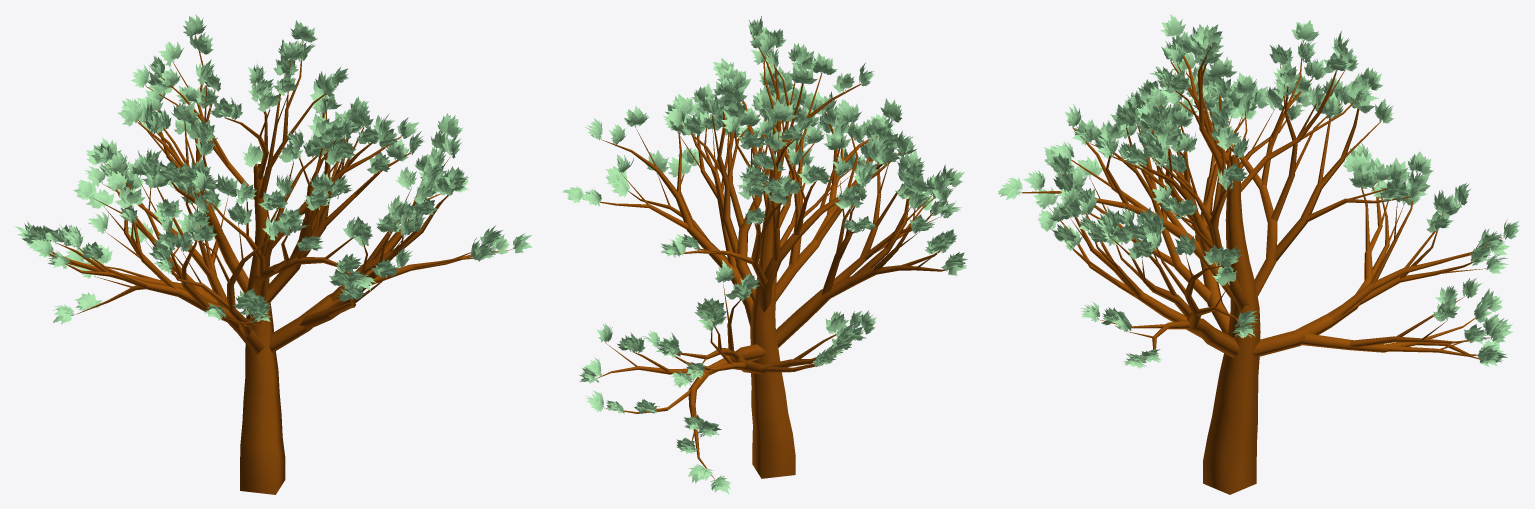
Rendered from FinalTree31.fbx.
The picture shows the model from 3 angles, left to right: view 1: azimuth 30°, elevation 25°; view 2: azimuth 150°, elevation 25°; view 3: azimuth 270°, elevation 25°; orthographic projection. The views are drawn at different scales.
Visible parts, largest first — view 1: Árbol; view 2: Árbol; view 3: Árbol.
Boxes of the visible parts, left/top/right/bottom form: Árbol: left=50, top=35, right=511, bottom=494; Árbol: left=583, top=37, right=952, bottom=479; Árbol: left=1021, top=42, right=1504, bottom=494.
Bounding box in the file's own units: 707 × 711 × 711.
